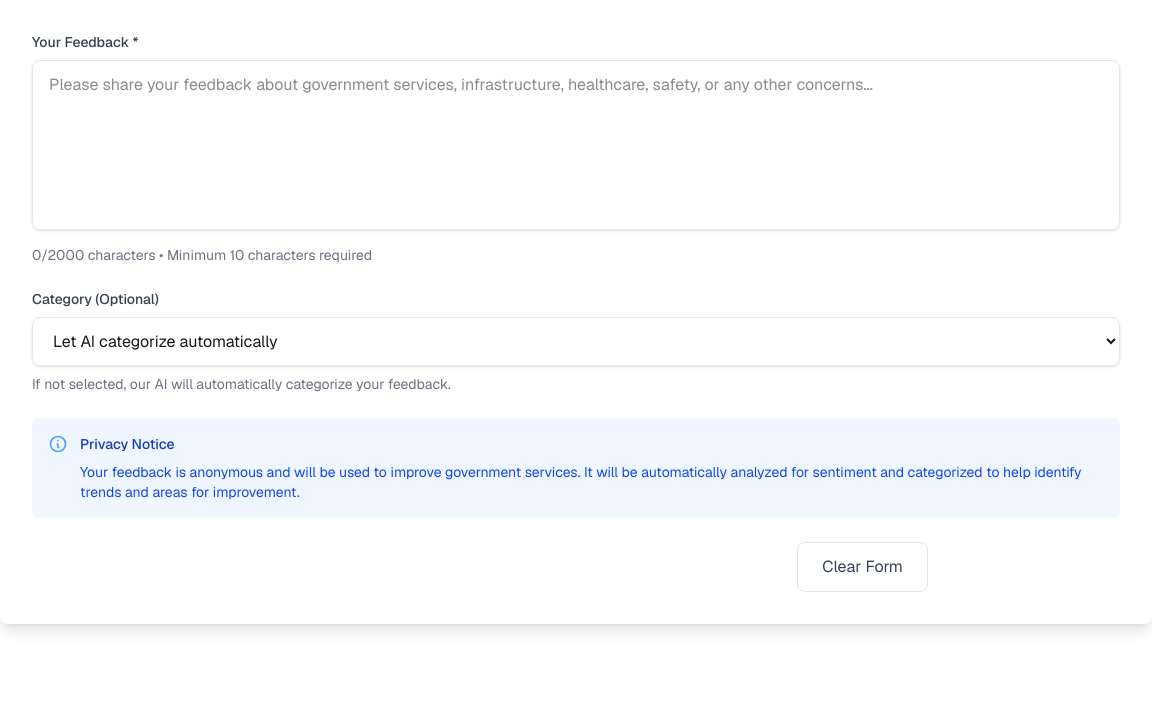
Test: FeedbackForm › shows character count and validation message
The width and height of the screenshot is (1152, 720).
Expected: the text "0/2000 characters • Minimum 10 characters required" is shown, 32,246 -> 372,264
Type some text
Replace the text in the text box labelled "Your Feedback *" with "Hello" at {"x": 576, "y": 145}, box 32,60 -> 1120,230
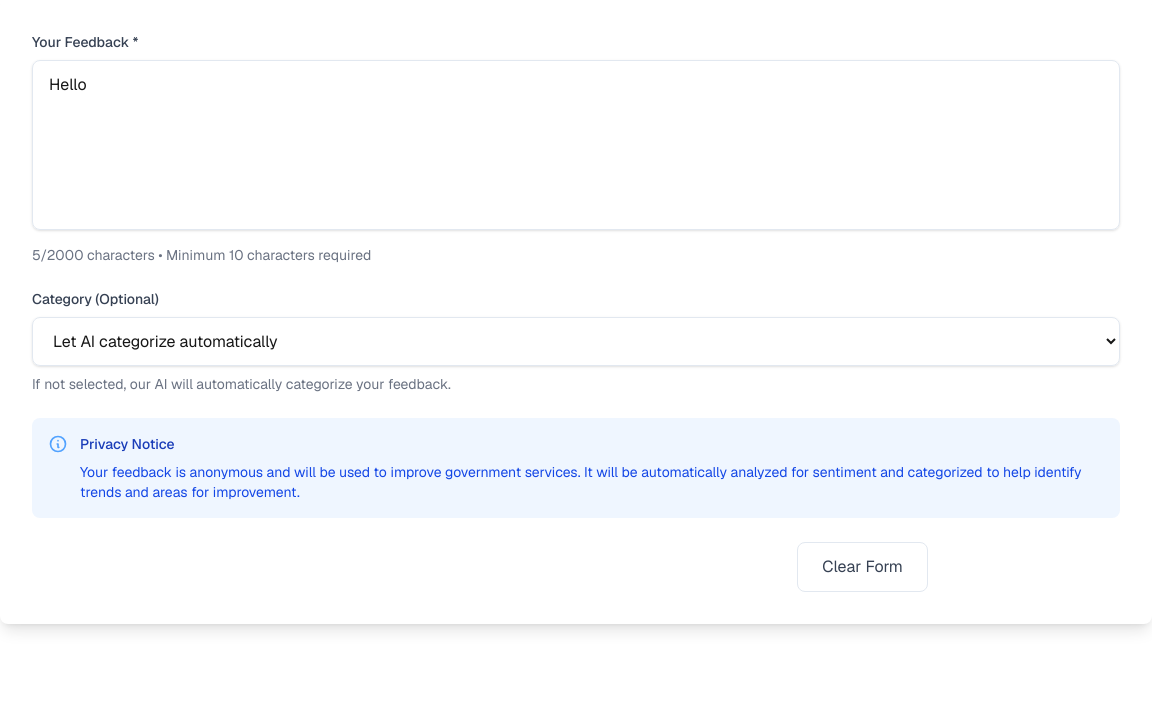
Expected: the text "5/2000 characters • Minimum 10 characters required" is shown, 32,246 -> 371,264
